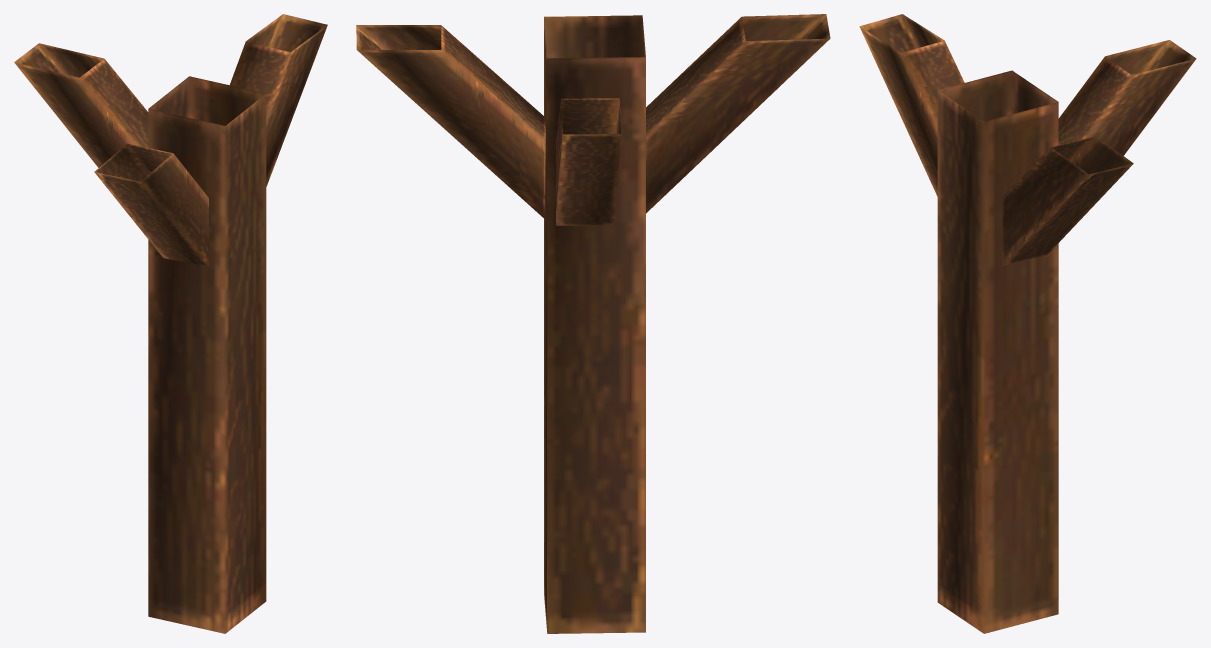
File: SWORDLIGHT20_JAILPLATSUPPORT46.fbx
3 renders of one model, left to right at view 1: azimuth 30°, elevation 25°; view 2: azimuth 150°, elevation 25°; view 3: azimuth 270°, elevation 25°, orthographic. The views are drawn at different scales.
Parts seen in each view (by area): view 1: SWORDLIGHT20_JAILPLATSUPPORT46; view 2: SWORDLIGHT20_JAILPLATSUPPORT46; view 3: SWORDLIGHT20_JAILPLATSUPPORT46.
Part boxes in pixels (bbox=[...]): SWORDLIGHT20_JAILPLATSUPPORT46: bbox=[14, 14, 327, 633]; SWORDLIGHT20_JAILPLATSUPPORT46: bbox=[356, 14, 830, 633]; SWORDLIGHT20_JAILPLATSUPPORT46: bbox=[859, 14, 1196, 633].
Bounding box in the file's own units: 17267 × 25856 × 15332.
1 material, 1 textured.
